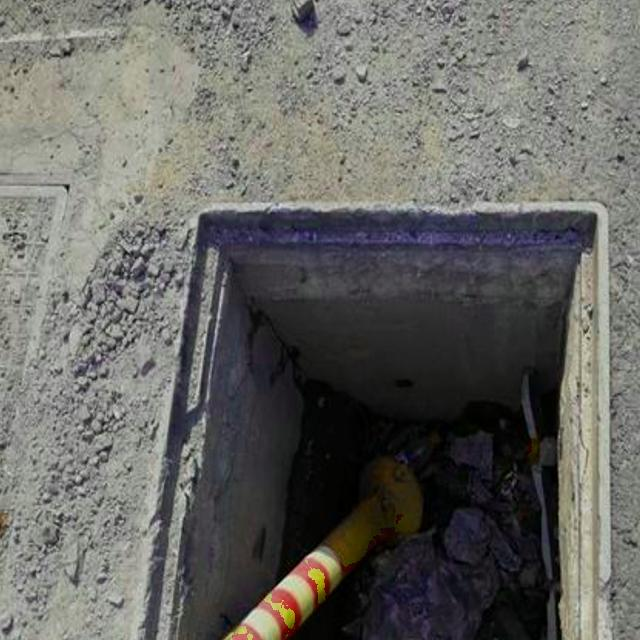lose: (115, 156, 640, 640)
